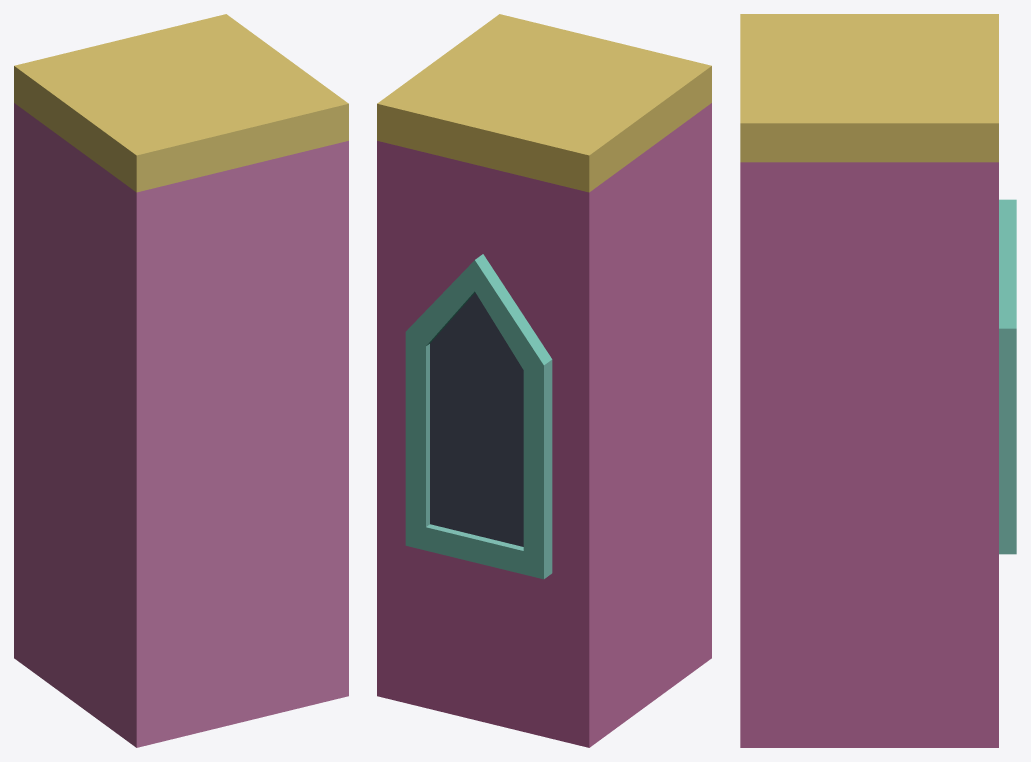
The model's file is squidgame_props_platform4_pink.fbx.
3 renders of one model, left to right at view 1: azimuth 30°, elevation 25°; view 2: azimuth 150°, elevation 25°; view 3: azimuth 270°, elevation 25°, orthographic. The views are drawn at different scales.
Visible parts, largest first — view 1: squidgame_props_platform4_pink; view 2: squidgame_props_platform4_pink; view 3: squidgame_props_platform4_pink.
Boxes of the visible parts, bbox=[...] form: squidgame_props_platform4_pink: bbox=[14, 14, 348, 747]; squidgame_props_platform4_pink: bbox=[377, 14, 711, 747]; squidgame_props_platform4_pink: bbox=[740, 14, 1016, 747].
Bounding box in the file's own units: 1.5 × 4 × 1.6.
